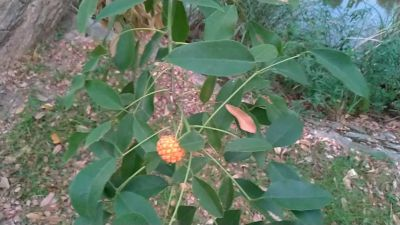eggs: (155, 134, 185, 164)
